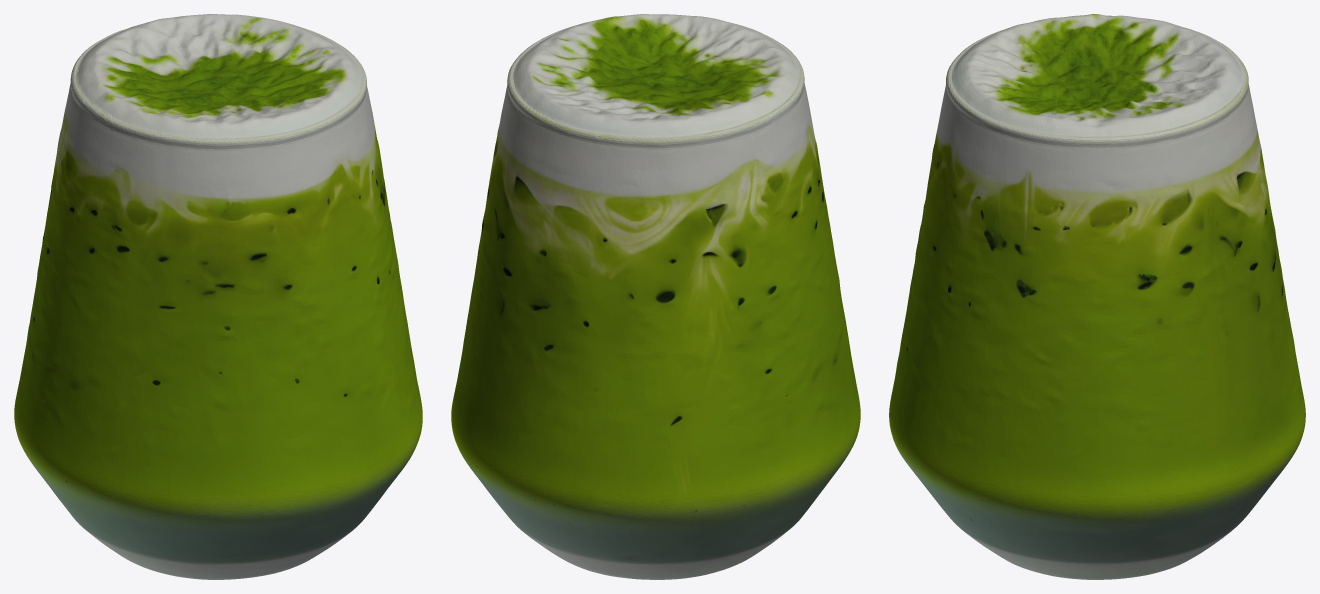
The model's file is matcha_layers.glb.
The picture shows the model from 3 angles, left to right: view 1: azimuth 30°, elevation 25°; view 2: azimuth 150°, elevation 25°; view 3: azimuth 270°, elevation 25°; orthographic projection.
Parts seen in each view (by area): view 1: matcha_isi, matcha_topping, matcha_base; view 2: matcha_isi, matcha_topping, matcha_base; view 3: matcha_isi, matcha_topping, matcha_base.
Boxes of the visible parts, box(x1,y1,x2,y2) form: matcha_isi: box(16, 200, 420, 488); matcha_topping: box(48, 14, 389, 282); matcha_base: box(14, 392, 422, 579); matcha_isi: box(453, 200, 858, 489); matcha_topping: box(486, 14, 826, 285); matcha_base: box(451, 389, 860, 579); matcha_isi: box(891, 200, 1303, 487); matcha_topping: box(925, 14, 1270, 278); matcha_base: box(889, 392, 1305, 579).
Bounding box in the file's own units: 0.8463 × 1.08 × 0.8652.
Materials: 1 (1 with a texture image).
